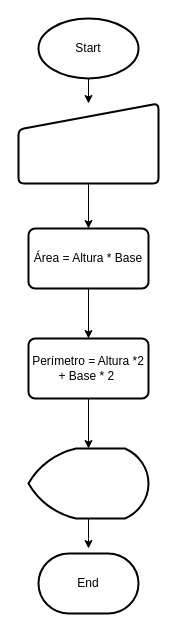
The diagram is 176 pixels wide and 631 high, and some of its shapes have lost their labels. Each missing label, with the centre of its shape:
Altura e Base: (88,143)
Mostrar na tela Área e Perímetro: (88,483)
